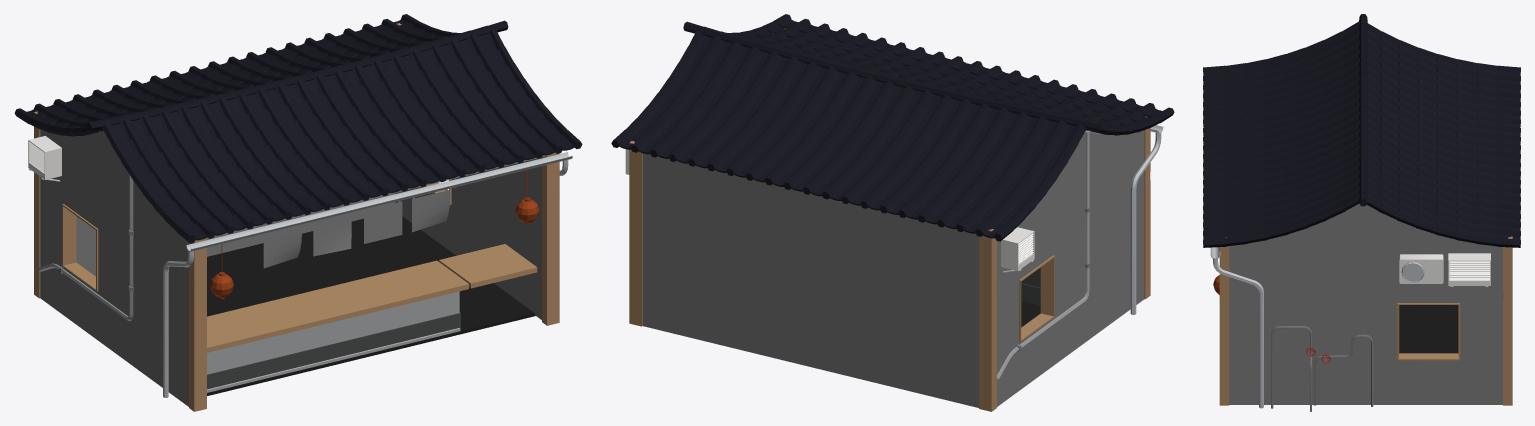
The model's file is SM_ramenshop.fbx.
3 renders of one model, left to right at view 1: azimuth 30°, elevation 25°; view 2: azimuth 150°, elevation 25°; view 3: azimuth 270°, elevation 25°, orthographic. The views are drawn at different scales.
Parts seen in each view (by area): view 1: Object035; view 2: Object035; view 3: Object035.
Part boxes in pixels (box(x1,y1,x2,y2)): Object035: box(14, 14, 582, 411); Object035: box(611, 14, 1174, 411); Object035: box(1203, 14, 1520, 411).
Size of the model in its own units: 364 by 263 by 201.
